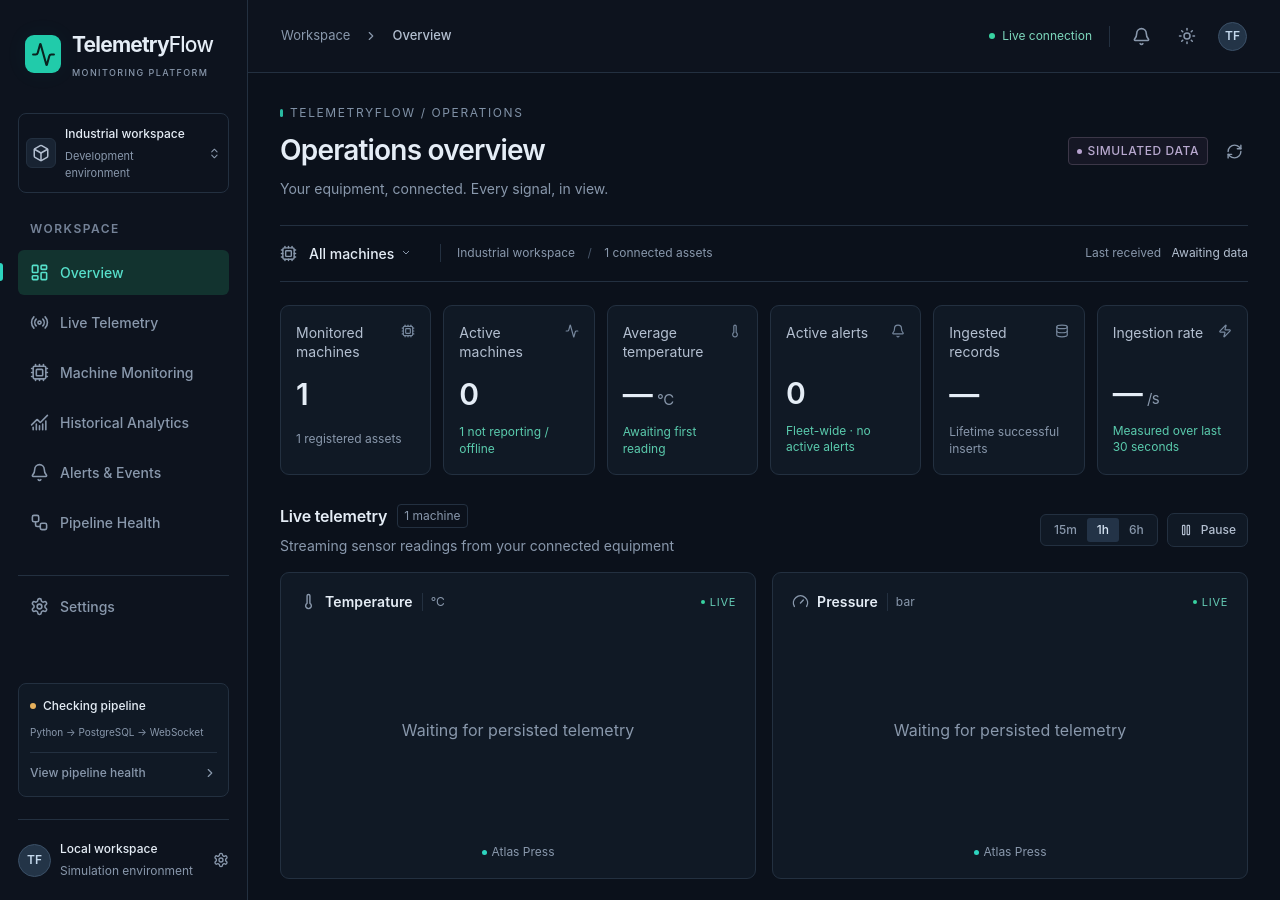
Test case: dashboard interactions › navigates to pipeline health and toggles theme
Click the button "Pipeline Health".
click(124, 522)  # box [18,500,229,545]
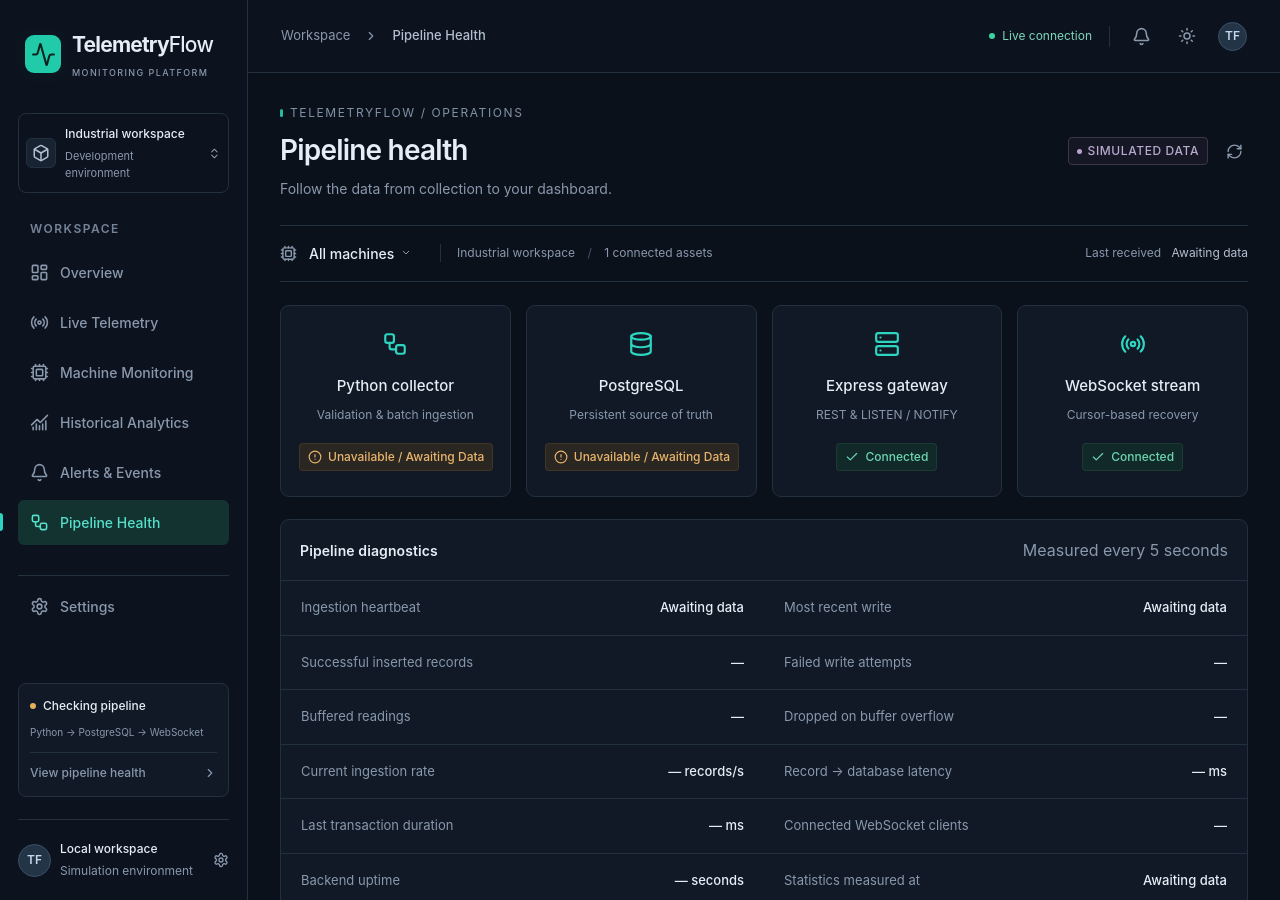
Check: the heading "Pipeline diagnostics" is shown, box [300,540,438,561]
Click the button named "Use light theme".
click(1187, 36)  # box [1173,22,1201,50]
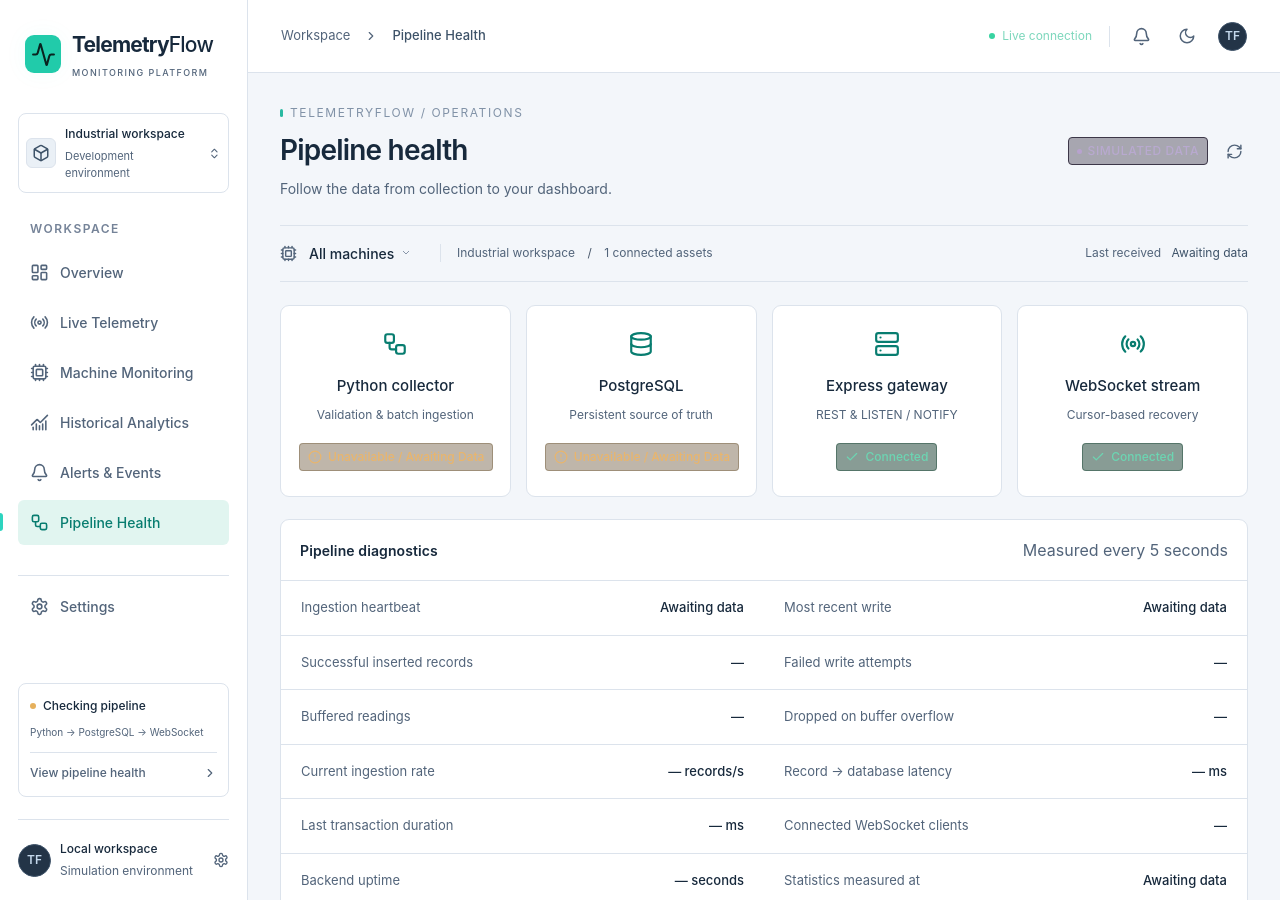
Check: the button named "Use dark theme" is shown, box [1173,22,1201,50]
